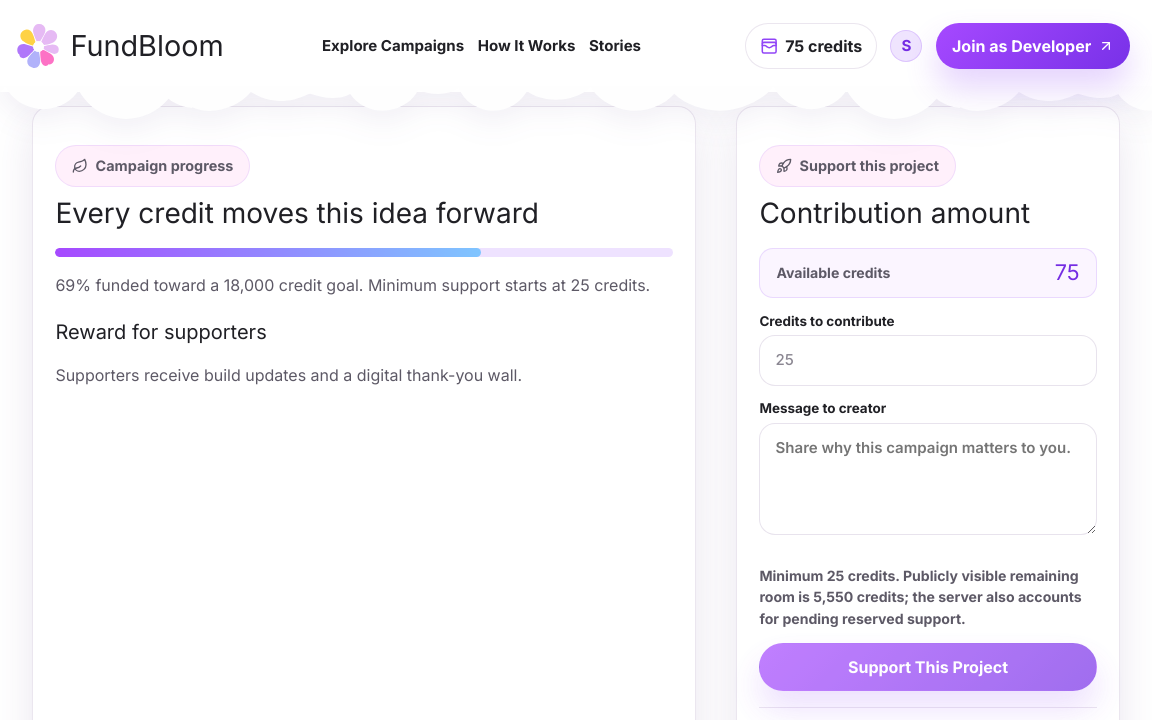
Test: Explore campaign pages › creates a supporter contribution from campaign details and refreshes session data
(page scrolled)
Expected: the element named "supporter credit balance" shows "75", [1055, 259, 1080, 285]
Type "50" into the number field labelled "Credits to contribute" at {"x": 928, "y": 361}, box [759, 335, 1097, 386]
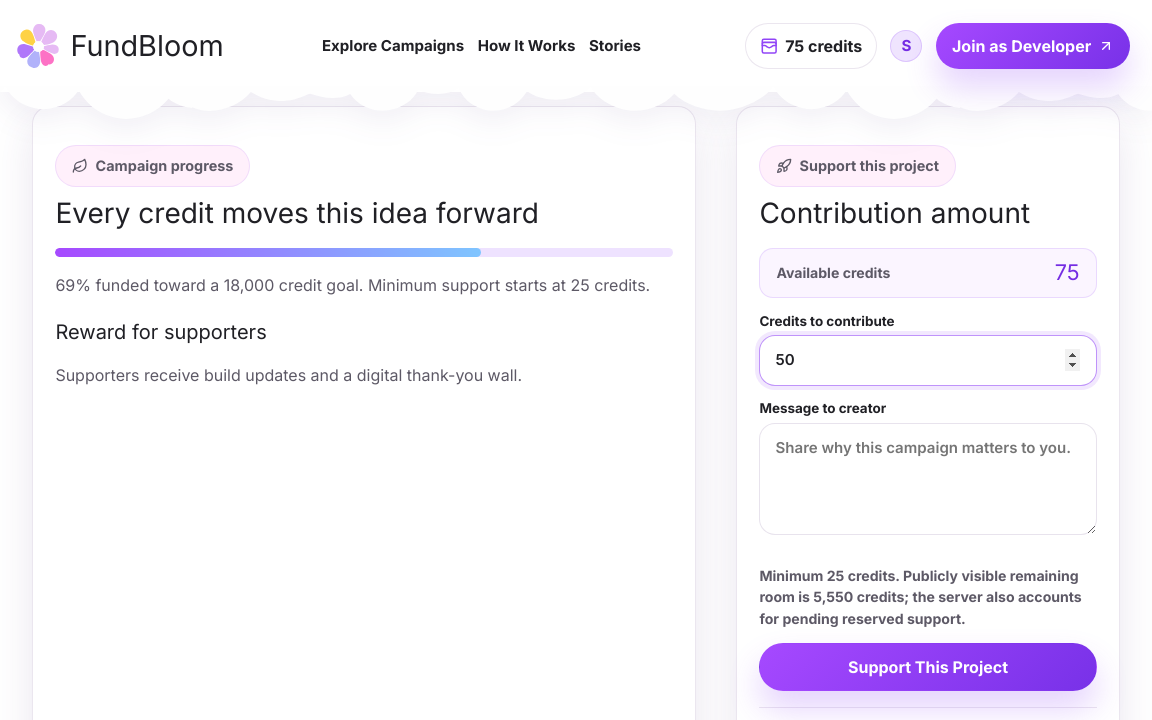
Type "This will help students learn." into the text box labelled "Message to creator" at {"x": 928, "y": 479}, box [759, 423, 1097, 535]
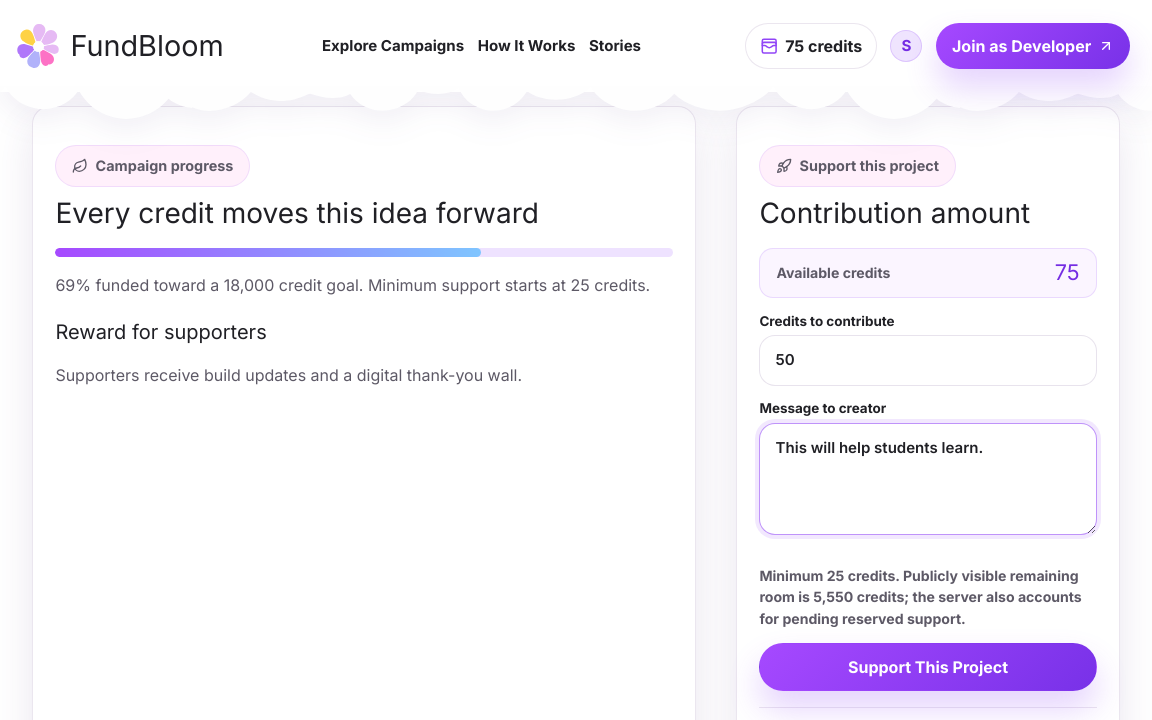
Click the button "Support This Project" at {"x": 928, "y": 667}, box [759, 643, 1097, 691]
(page scrolled)
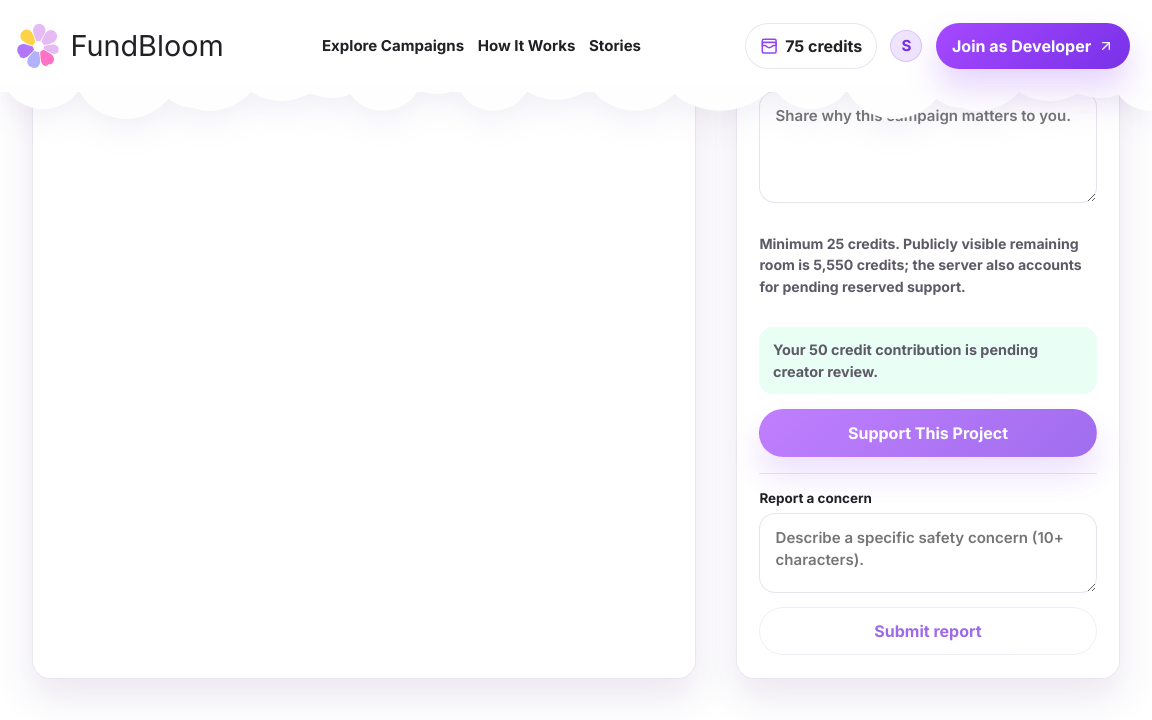
Now the text "Your 50 credit contribution is pending creator review." is shown, box [759, 327, 1097, 394]
